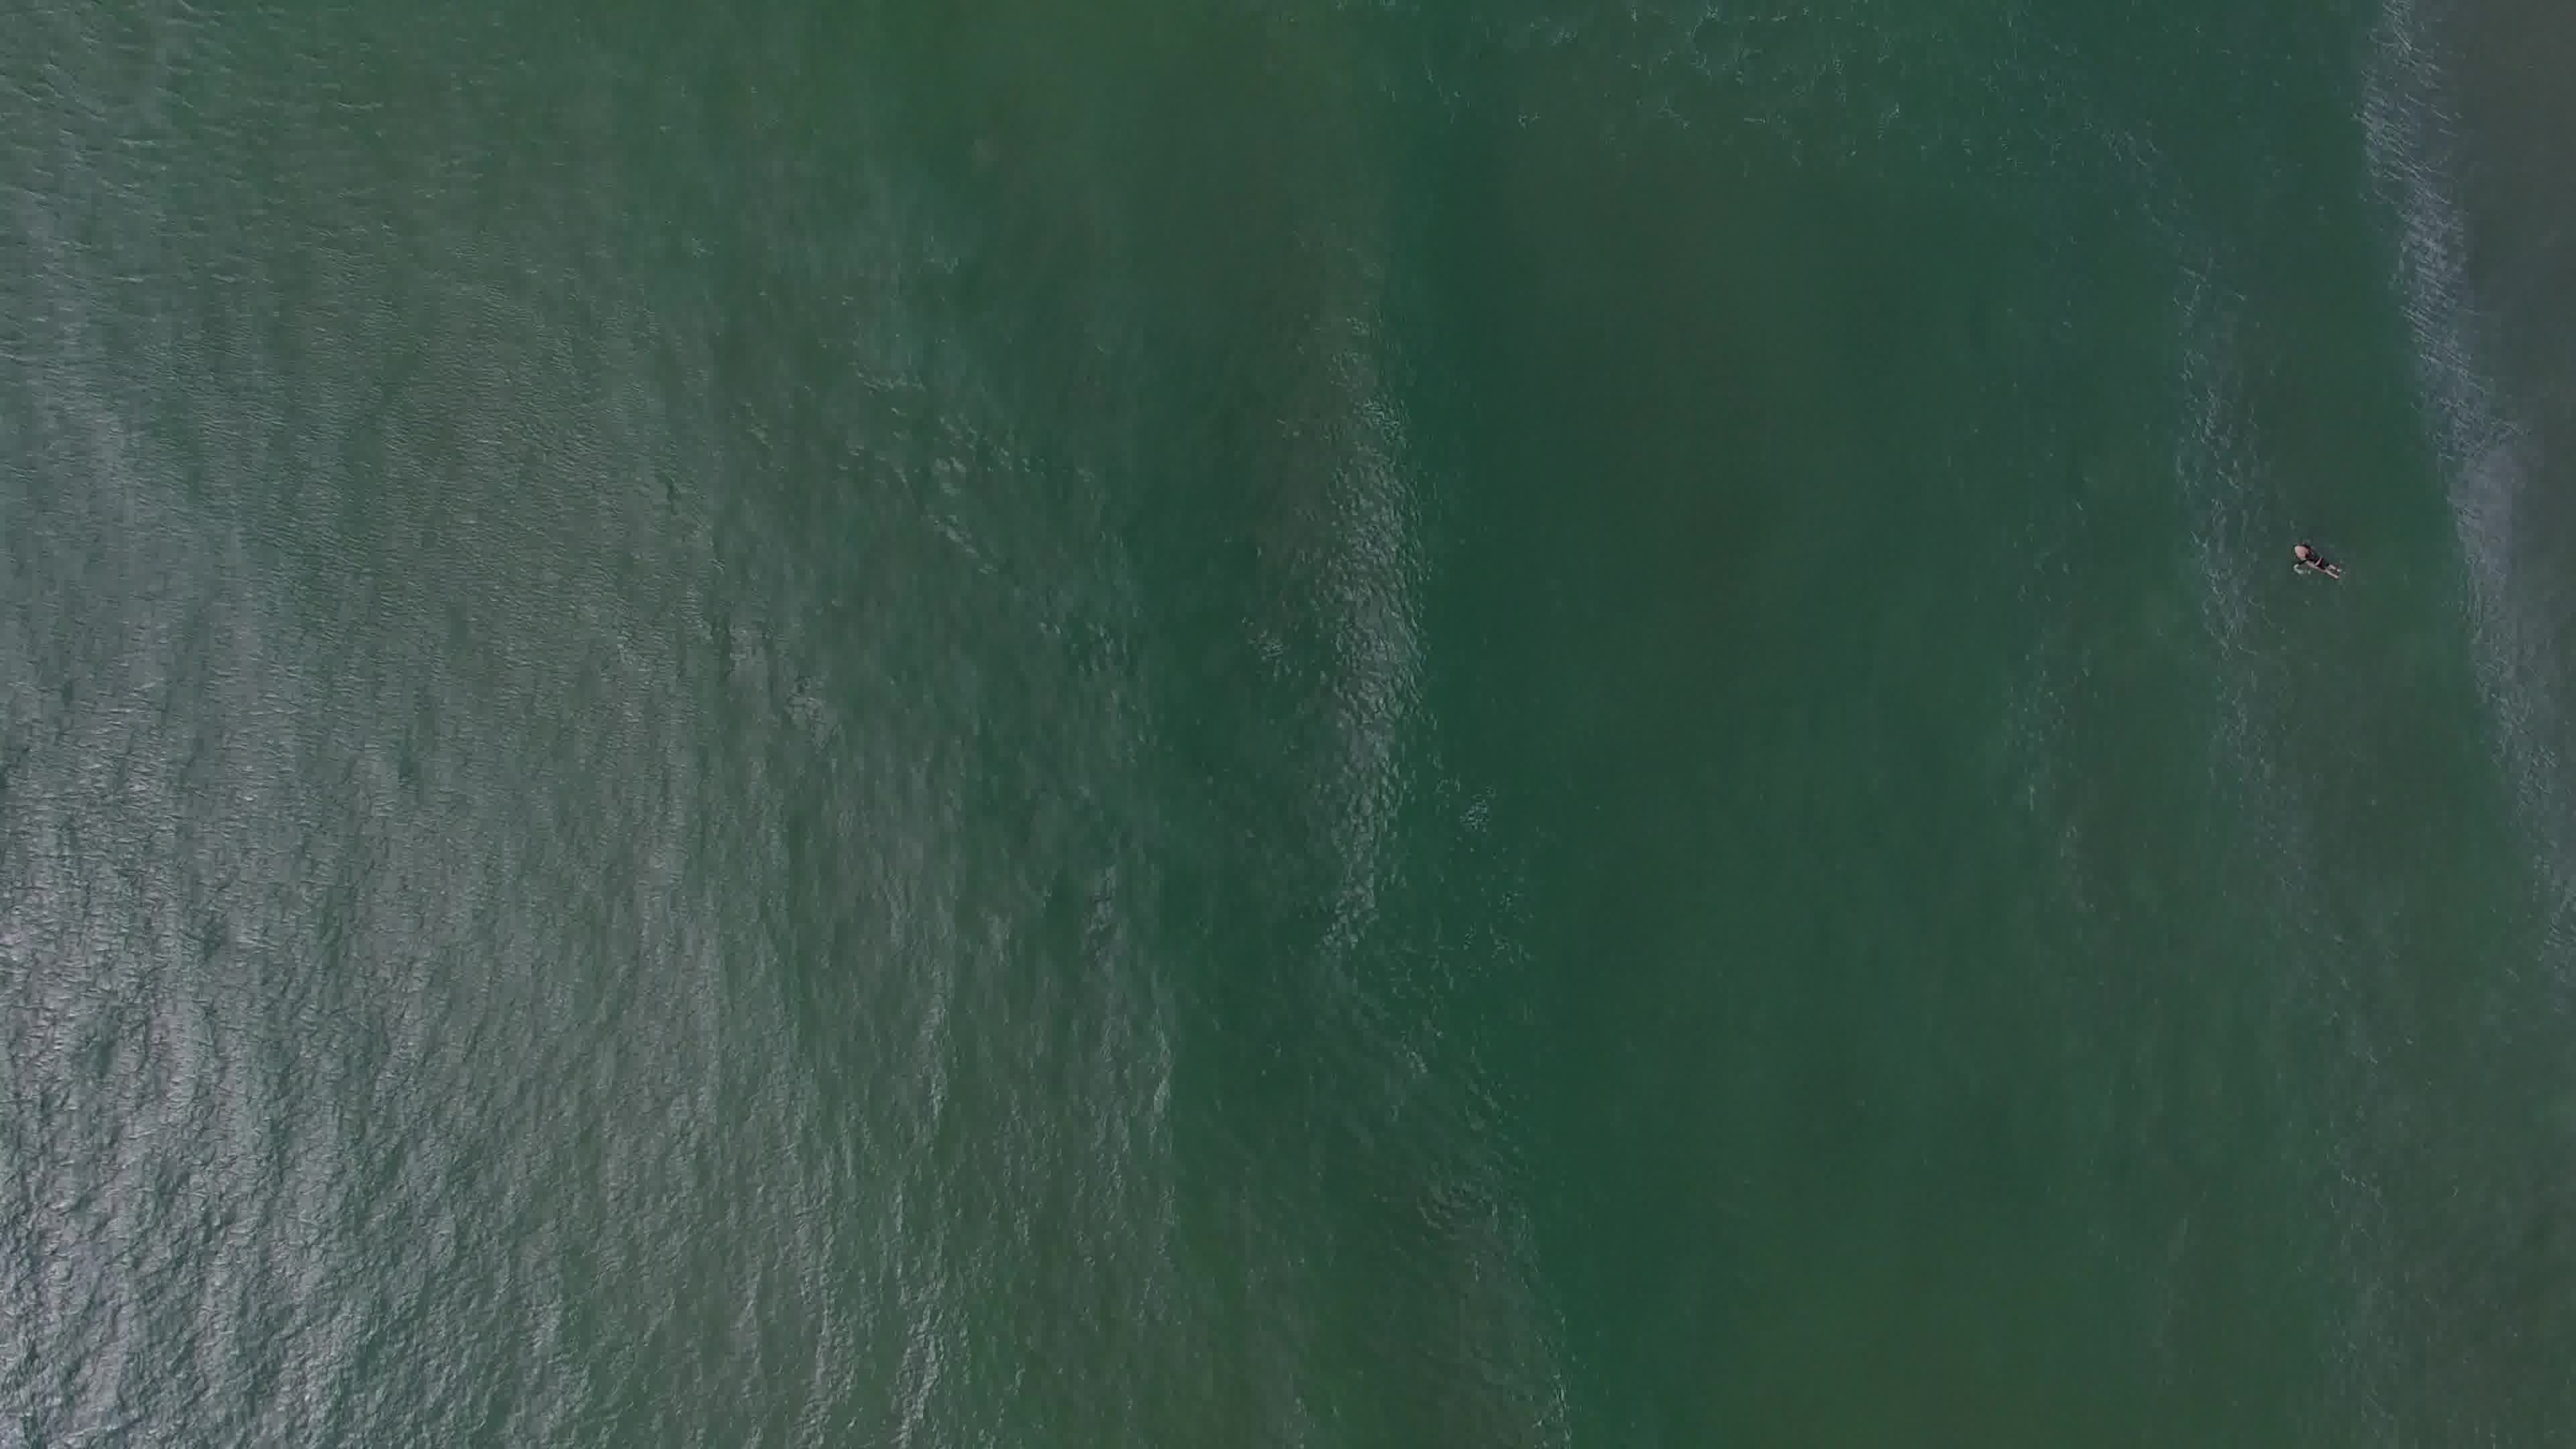surfer: (2282, 534, 2362, 584)
